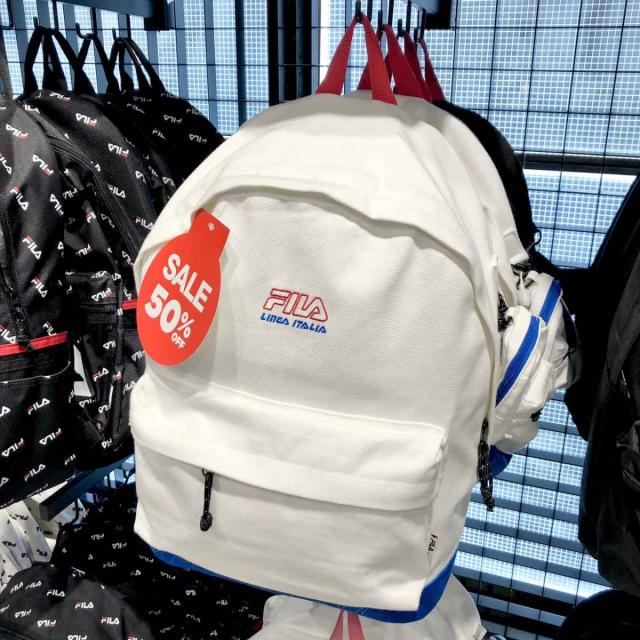Handbag: (128, 74, 520, 628)
